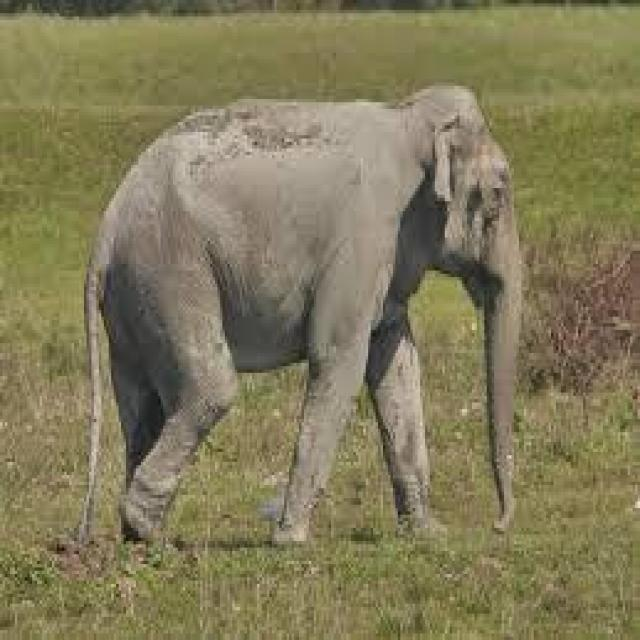Elephant: (79, 79, 517, 551)
